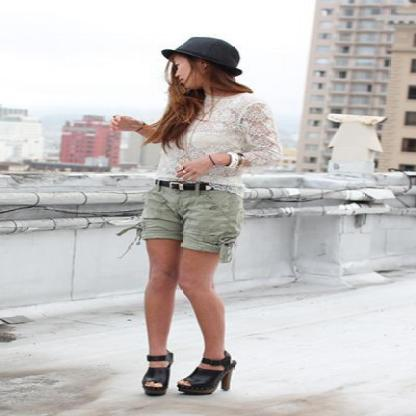hat: (162, 37, 239, 74)
shirt: (150, 93, 275, 190)
shoe: (142, 353, 234, 396)
shorts: (129, 180, 254, 253)
